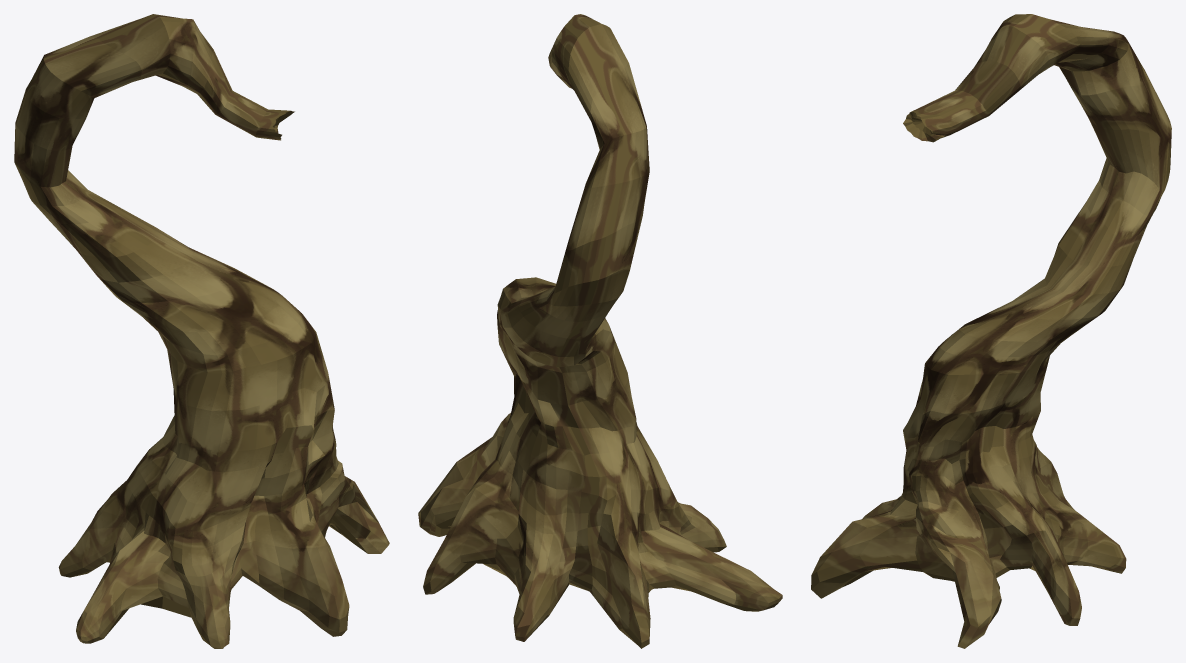
File: treeBaseHook.fbx
3 views of the same model, side by side, from view 1: azimuth 30°, elevation 25°; view 2: azimuth 150°, elevation 25°; view 3: azimuth 270°, elevation 25° (orthographic). The views are drawn at different scales.
Parts seen in each view (by area): view 1: pCylinder20; view 2: pCylinder20; view 3: pCylinder20.
Boxes of the visible parts, x1,y1,x2,y2 form: pCylinder20: (14,14,389,648); pCylinder20: (418,14,782,648); pCylinder20: (811,14,1171,648).
Size of the model in its own units: 661 by 1083 by 640.
Materials: 1 (1 with a texture image).
